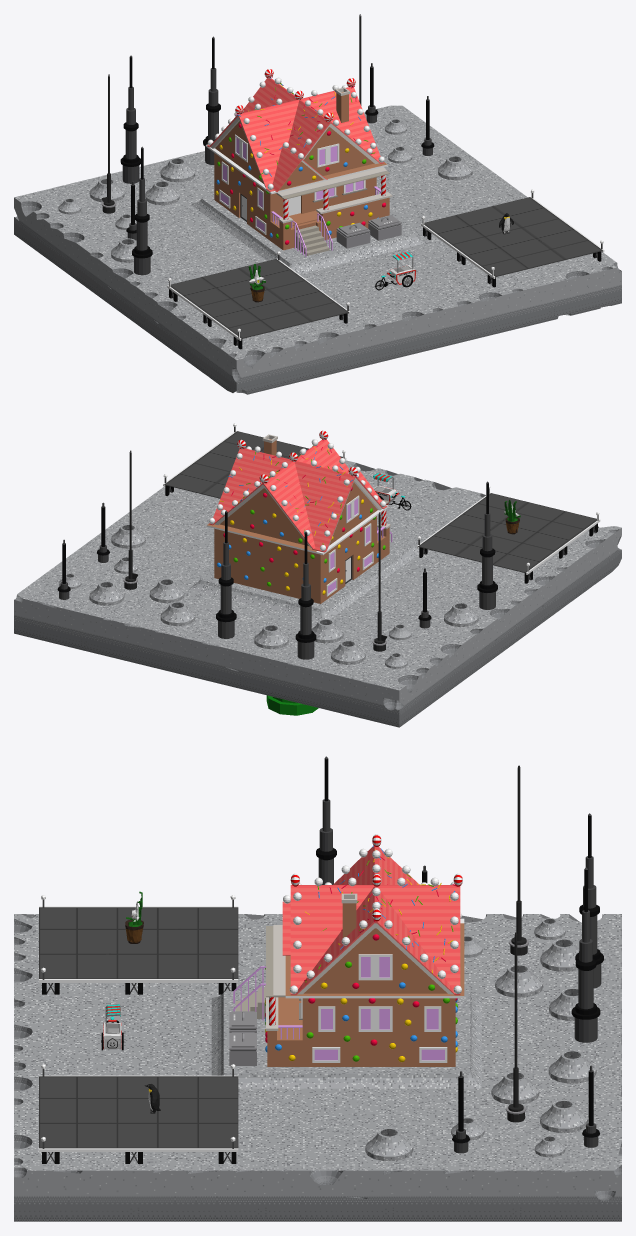
3 views of the same model, one above another, from view 1: azimuth 30°, elevation 25°; view 2: azimuth 150°, elevation 25°; view 3: azimuth 270°, elevation 25° (orthographic). The views are drawn at different scales.
Parts seen in each view (by area): view 1: Cube.027, Cube.1203, Cube.026, Cube.025, Cube.028, Cylinder.020, Cylinder.021, Cylinder.017, VEHICLES_SNOWBAL_BIKE, Cube.029, Cube.030, Cylinder.027 (+3 smaller); view 2: Cube.027, Cube.1203, Cube.025, Cube.028, Cube.026, Cylinder.020, Cylinder.021, Cylinder.017, Cylinder.031, Cylinder.028, Cylinder.029, Cylinder.030 (+8 smaller); view 3: Cube.027, Cube.1203, Cube.026, Cube.025, Cube.028, Cylinder.017, Cylinder.020, Cylinder.021, Cylinder.033, Cylinder.031, Cylinder.029, Cylinder.026 (+9 smaller).
Part boxes in pixels (bbox=[...]): Cube.027: bbox=[14, 105, 621, 394]; Cube.1203: bbox=[205, 69, 392, 256]; Cube.026: bbox=[421, 189, 604, 287]; Cube.025: bbox=[167, 251, 350, 349]; Cube.028: bbox=[191, 195, 424, 274]; Cylinder.020: bbox=[120, 55, 140, 183]; Cylinder.021: bbox=[132, 146, 152, 275]; Cylinder.017: bbox=[203, 36, 220, 164]; VEHICLES_SNOWBAL_BIKE: bbox=[374, 252, 415, 290]; Cube.029: bbox=[336, 222, 370, 248]; Cube.030: bbox=[368, 215, 401, 240]; Cylinder.027: bbox=[160, 158, 195, 182]; Cube.027: bbox=[14, 460, 621, 727]; Cube.1203: bbox=[206, 430, 392, 603]; Cube.025: bbox=[417, 485, 600, 583]; Cube.028: bbox=[190, 538, 419, 620]; Cube.026: bbox=[163, 423, 346, 498]; Cylinder.020: bbox=[295, 531, 316, 659]; Cylinder.021: bbox=[477, 481, 497, 609]; Cylinder.017: bbox=[216, 510, 236, 638]; Cylinder.031: bbox=[89, 581, 124, 605]; Cylinder.028: bbox=[331, 640, 365, 664]; Cylinder.029: bbox=[160, 601, 195, 626]; Cylinder.030: bbox=[149, 578, 184, 603]; Cube.027: bbox=[14, 914, 621, 1221]; Cube.1203: bbox=[233, 834, 464, 1066]; Cube.026: bbox=[39, 1064, 238, 1163]; Cube.025: bbox=[39, 895, 238, 994]; Cube.028: bbox=[211, 991, 481, 1088]; Cylinder.017: bbox=[571, 867, 600, 1042]; Cylinder.020: bbox=[575, 813, 603, 988]; Cylinder.021: bbox=[316, 756, 336, 884]; Cylinder.033: bbox=[365, 1128, 413, 1160]; Cylinder.031: bbox=[540, 1100, 587, 1132]; Cylinder.029: bbox=[548, 1050, 596, 1083]; Cylinder.026: bbox=[495, 964, 543, 997].
Bounding box in the file's own units: 4000 × 2383 × 4000.
Materials: 42 (5 with a texture image).
